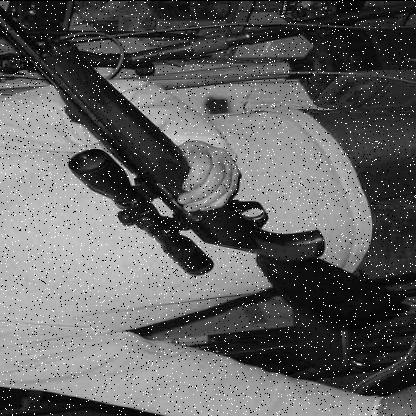rifle: (5, 1, 410, 330)
